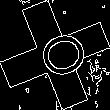O_W: (23, 25, 87, 85)
